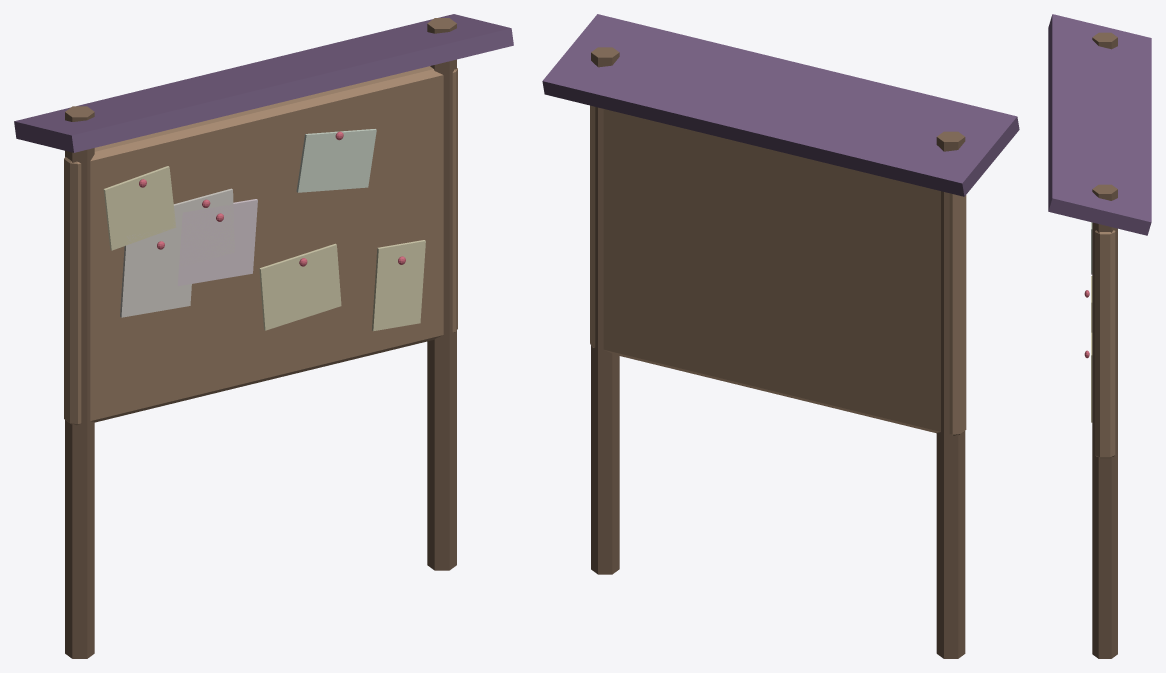
The model's file is NoticeBoard.fbx.
3 views of the same model, side by side, from view 1: azimuth 30°, elevation 25°; view 2: azimuth 150°, elevation 25°; view 3: azimuth 270°, elevation 25° (orthographic). The views are drawn at different scales.
Parts seen in each view (by area): view 1: Prop_NoticeBoard; view 2: Prop_NoticeBoard; view 3: Prop_NoticeBoard.
Boxes of the visible parts, x1=… form: Prop_NoticeBoard: x1=14, y1=14, x2=513, y2=658; Prop_NoticeBoard: x1=542, y1=14, x2=1019, y2=658; Prop_NoticeBoard: x1=1048, y1=14, x2=1151, y2=658.
Bounding box in the file's own units: 1.7 × 2.03 × 0.4019.
